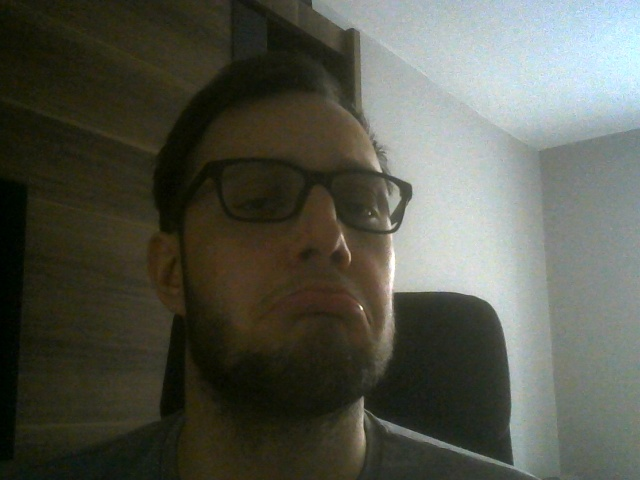neutral: (146, 58, 429, 407)
